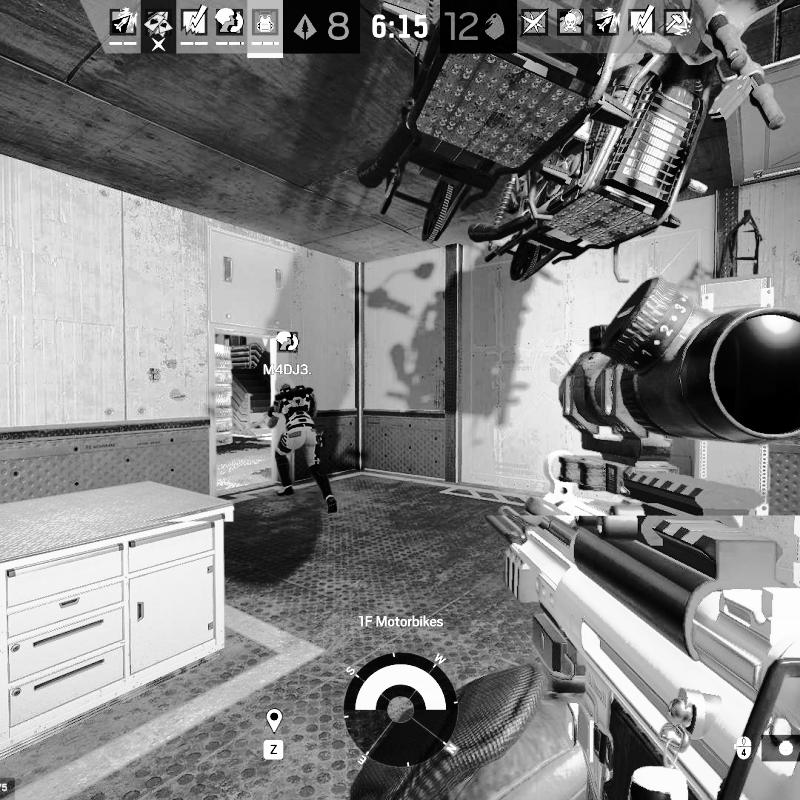Character: (250, 376, 340, 516)
Friend_label: (262, 329, 312, 375)
Head: (275, 376, 294, 392)
